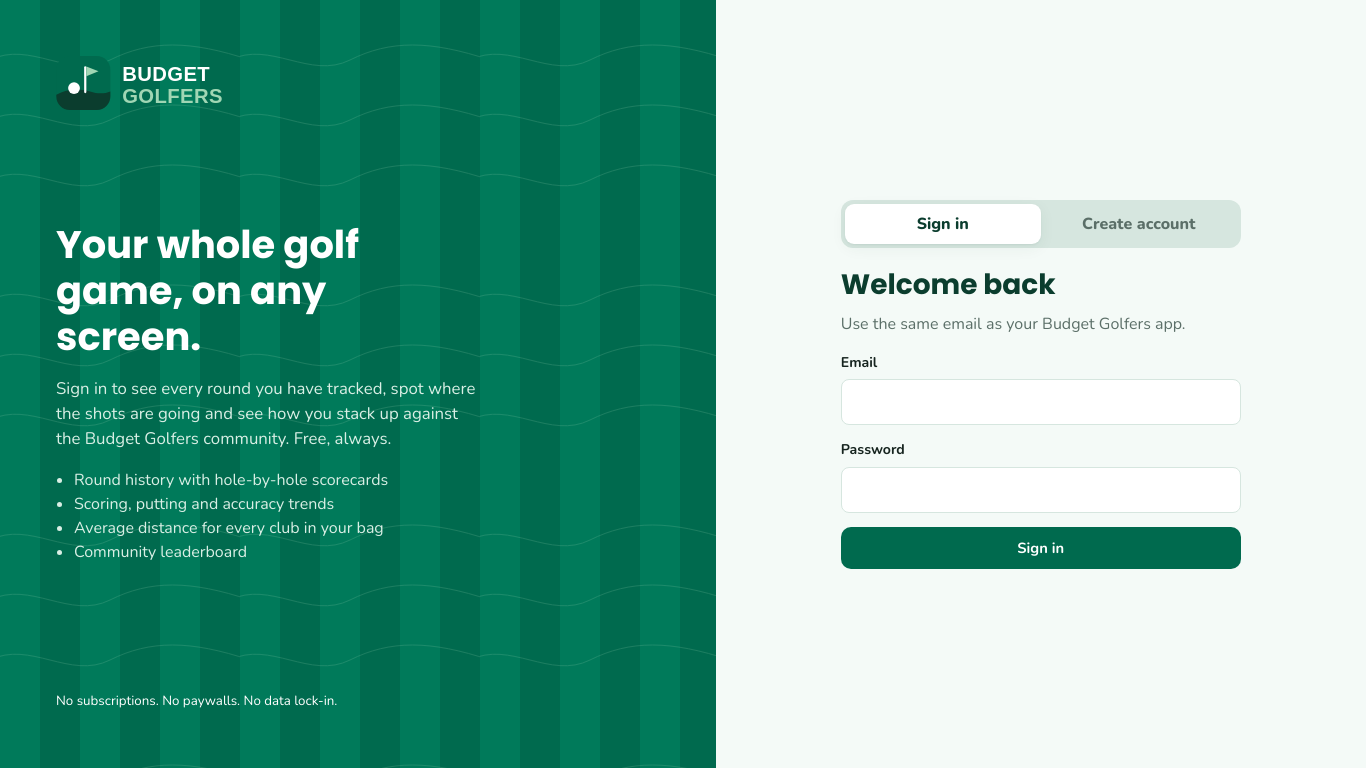
Test: routing and sign-in › a 401 is shown under the password field
Type "aroha.m@example.com" into the field labelled "Email".
click(1041, 402); type("aroha.m@example.com")  # box 841,379 -> 1241,425
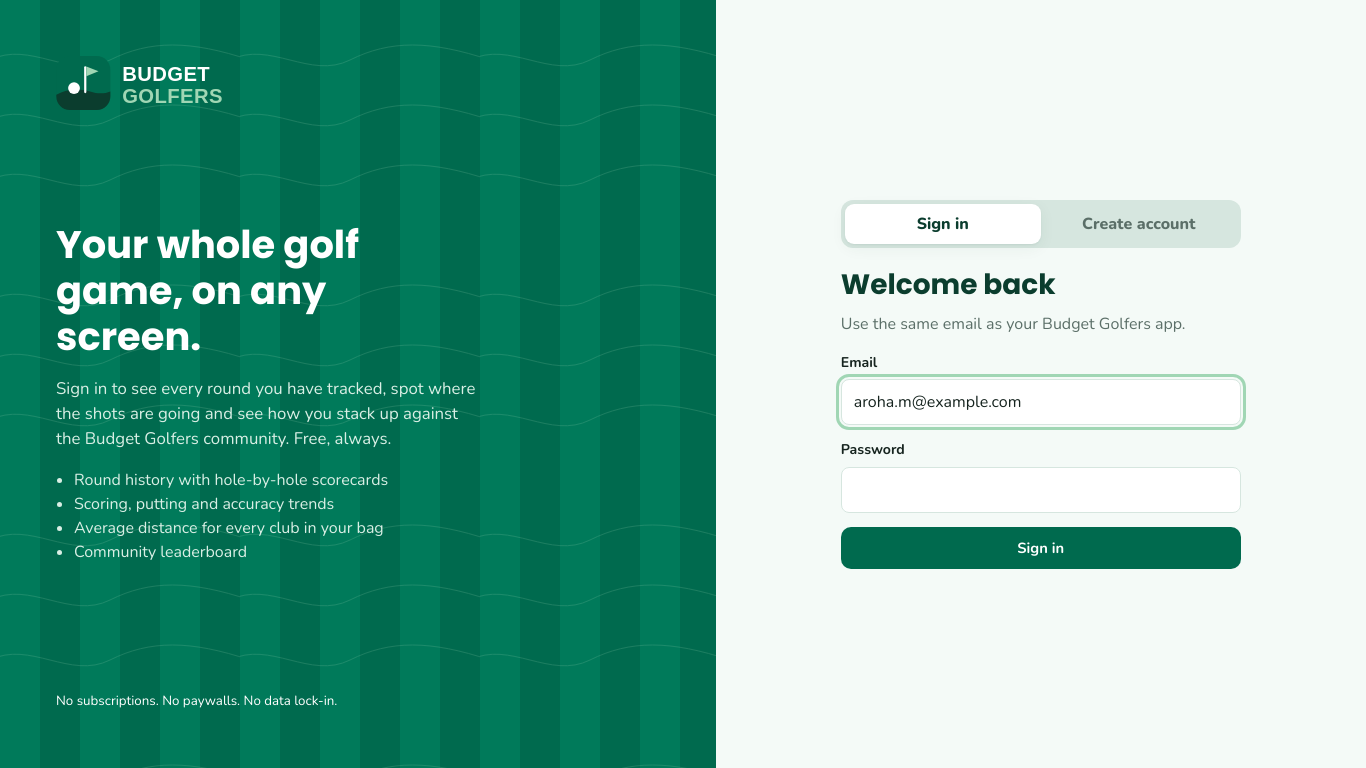
Type "wrong-password" into the password field labelled "Password".
click(1041, 490); type("wrong-password")  # box 841,466 -> 1241,512
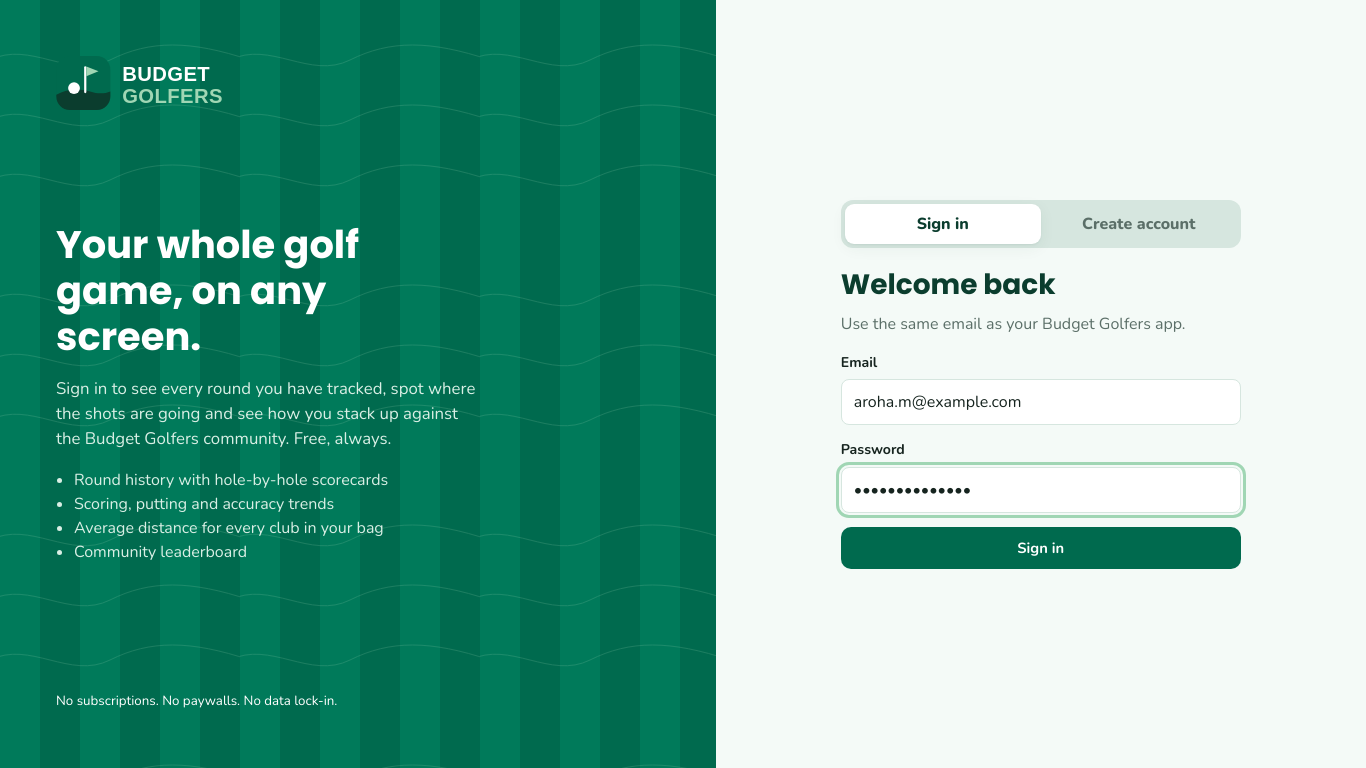
Click the button "Sign in".
click(1041, 548)  # box 841,526 -> 1241,568
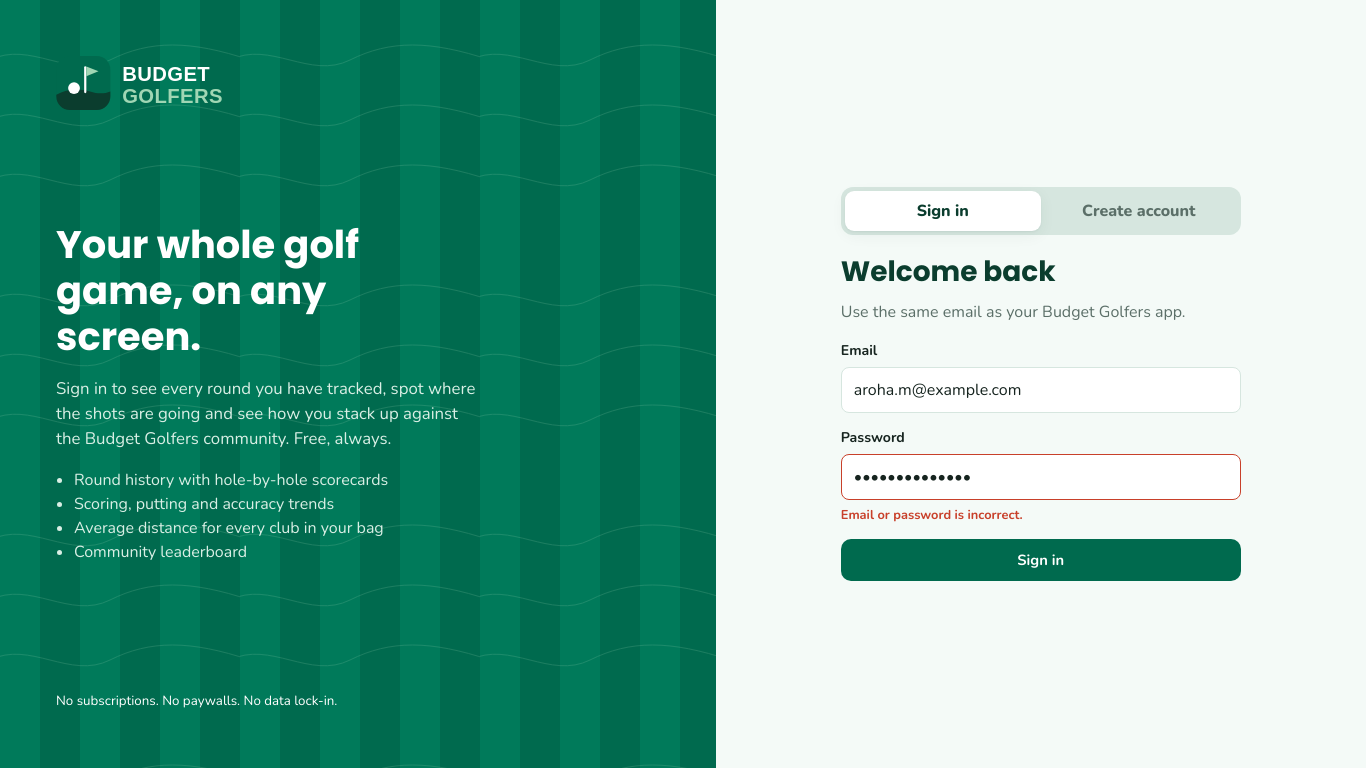
Expected: the text "Email or password is incorrect." is shown, 841,506 -> 1023,524
